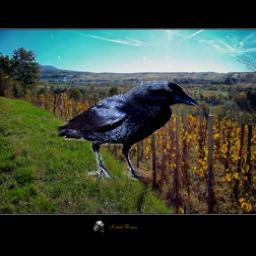Crow: (59, 80, 198, 180)
